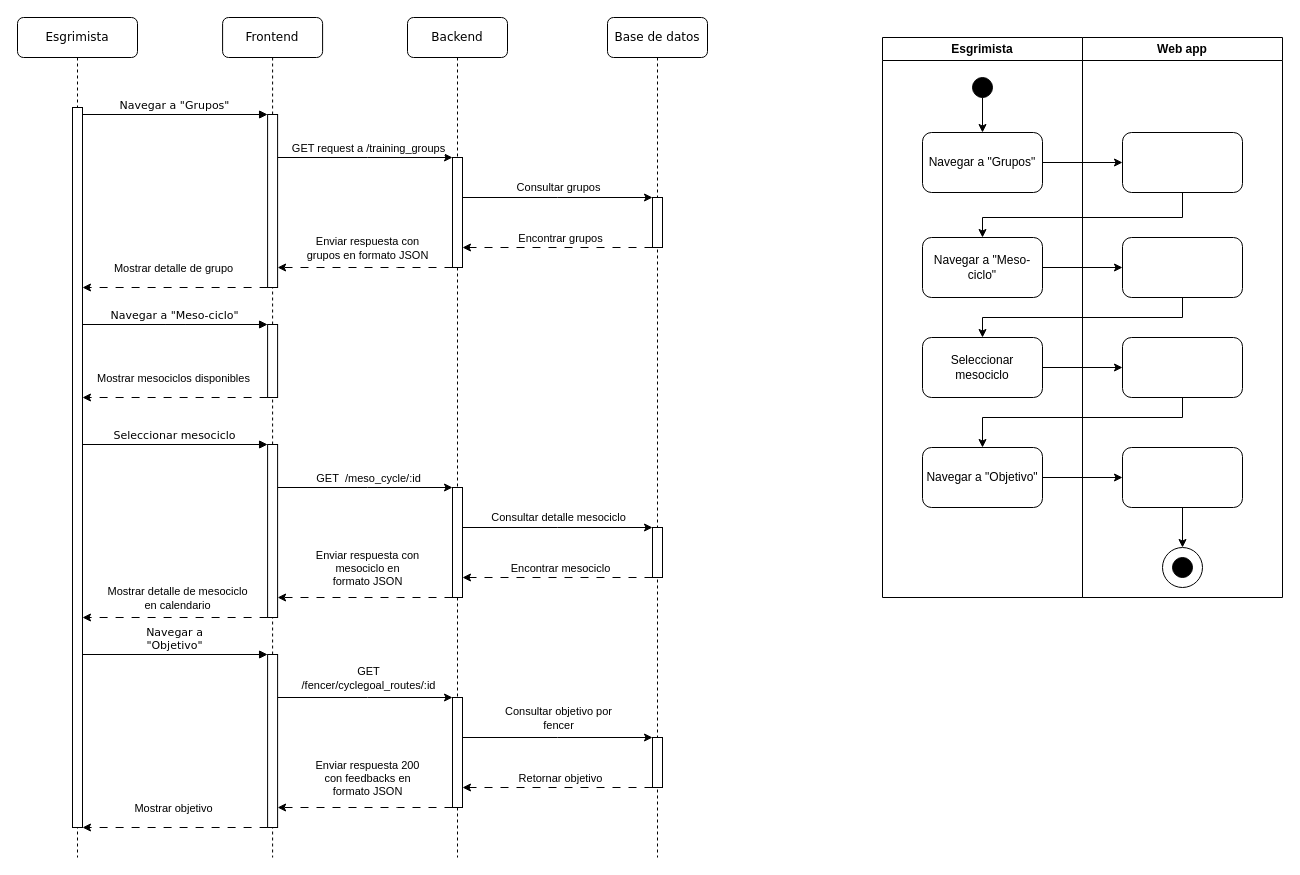
Image size: 1300x875. Some labels were removed from this diagram. Each missing label, with the centre of its shape:
"Mostrar detalle de mesociclo" belongs at [1182,367].
"Mostrar detalle del grupo" belongs at [1182,162].
"Mostrar listado de mesociclos" belongs at [1182,267].
"Mostrar objetivo de mesociclo" belongs at [1182,477].
